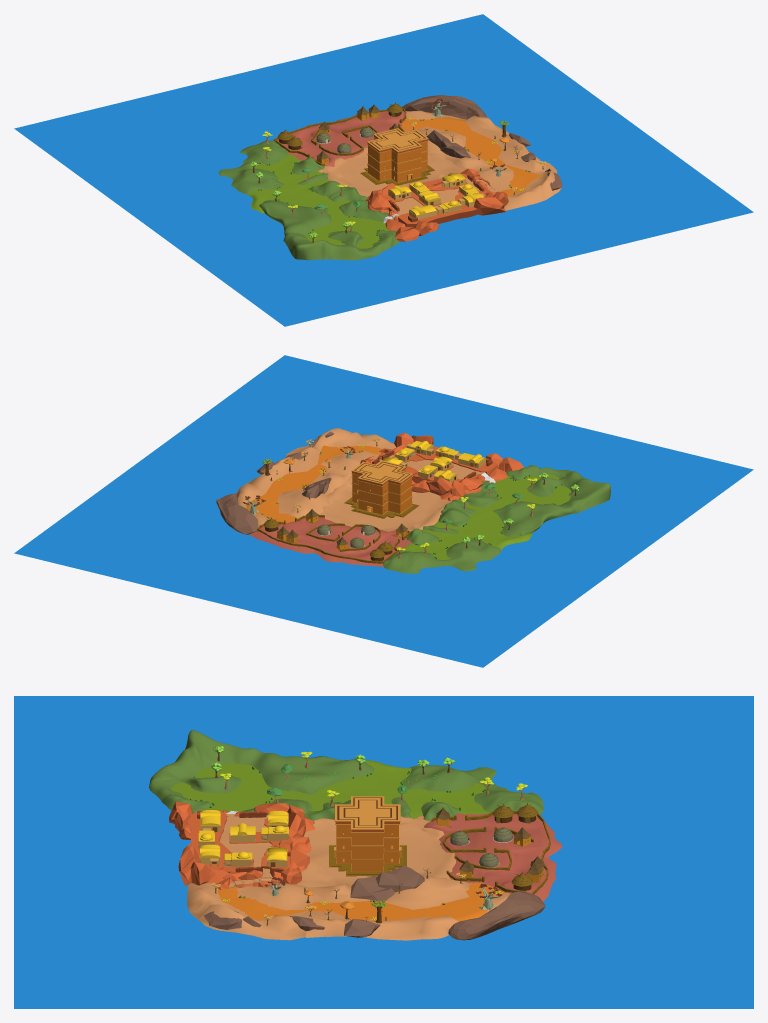
The model's file is Map (1).fbx.
3 renders of one model, top to bottom at view 1: azimuth 30°, elevation 25°; view 2: azimuth 150°, elevation 25°; view 3: azimuth 270°, elevation 25°, orthographic. The views are drawn at different scales.
Visible parts, largest first — view 1: Sea, Ground Grass_01, Desert Ground_02, Lalibela_Building, Mali_Road, Ground Grass Floor_01, Desert Ground_01, Lalibela_Floor, Tunisia Ground_Base, Ground Grass Floor_02, Icosphere.004; view 2: Sea, Ground Grass_01, Desert Ground_02, Mali_Road, Lalibela_Building, Lalibela_Floor, Ground Grass Floor_01, Desert Ground_01, Ground Grass Floor_02, Tunisia Ground_Base, Icosphere.004; view 3: Sea, Ground Grass_01, Desert Ground_02, Mali_Road, Lalibela_Building, Lalibela_Floor, Desert Ground_01, Ground Grass Floor_01, Ground Grass Floor_02, Tunisia Ground_Base, Icosphere.004, Icosphere.002 (+2 smaller).
Part boxes in pixels (bbox=[...]): Sea: bbox=[14, 14, 753, 326]; Ground Grass_01: bbox=[218, 140, 399, 260]; Desert Ground_02: bbox=[405, 110, 561, 210]; Lalibela_Building: bbox=[363, 128, 432, 184]; Mali_Road: bbox=[276, 111, 406, 166]; Ground Grass Floor_01: bbox=[245, 153, 332, 213]; Desert Ground_01: bbox=[401, 117, 541, 196]; Lalibela_Floor: bbox=[318, 147, 464, 198]; Tunisia Ground_Base: bbox=[385, 178, 487, 227]; Ground Grass Floor_02: bbox=[305, 200, 389, 248]; Icosphere.004: bbox=[401, 95, 486, 119]; Sea: bbox=[14, 355, 753, 667]; Ground Grass_01: bbox=[383, 465, 610, 573]; Desert Ground_02: bbox=[236, 428, 396, 526]; Mali_Road: bbox=[249, 517, 412, 567]; Lalibela_Building: bbox=[347, 460, 416, 517]; Lalibela_Floor: bbox=[319, 475, 454, 531]; Ground Grass Floor_01: bbox=[398, 510, 532, 559]; Desert Ground_01: bbox=[246, 445, 381, 522]; Ground Grass Floor_02: bbox=[466, 475, 571, 514]; Tunisia Ground_Base: bbox=[375, 445, 497, 483]; Icosphere.004: bbox=[216, 493, 258, 534]; Sea: bbox=[14, 696, 753, 1008]; Ground Grass_01: bbox=[149, 730, 543, 820]; Desert Ground_02: bbox=[187, 875, 510, 940]; Mali_Road: bbox=[424, 812, 562, 901]; Lalibela_Building: bbox=[331, 796, 404, 873]; Lalibela_Floor: bbox=[296, 815, 455, 887]; Desert Ground_01: bbox=[217, 883, 507, 921]; Ground Grass Floor_01: bbox=[309, 760, 489, 818]; Ground Grass Floor_02: bbox=[171, 763, 328, 811]; Tunisia Ground_Base: bbox=[187, 811, 292, 873]; Icosphere.004: bbox=[448, 890, 545, 940]; Icosphere.002: bbox=[375, 865, 424, 892].
Bounding box in the file's own units: 28973 × 2529 × 28973.
